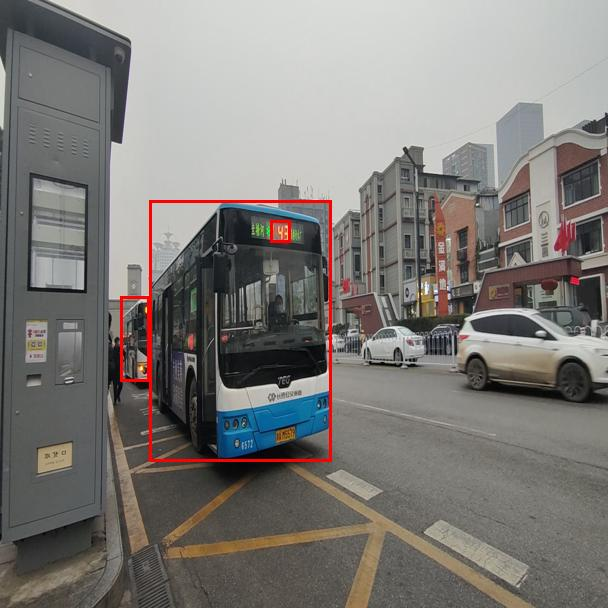bus: (149, 200, 331, 461), (120, 296, 149, 381)
screen: (270, 220, 290, 242)
